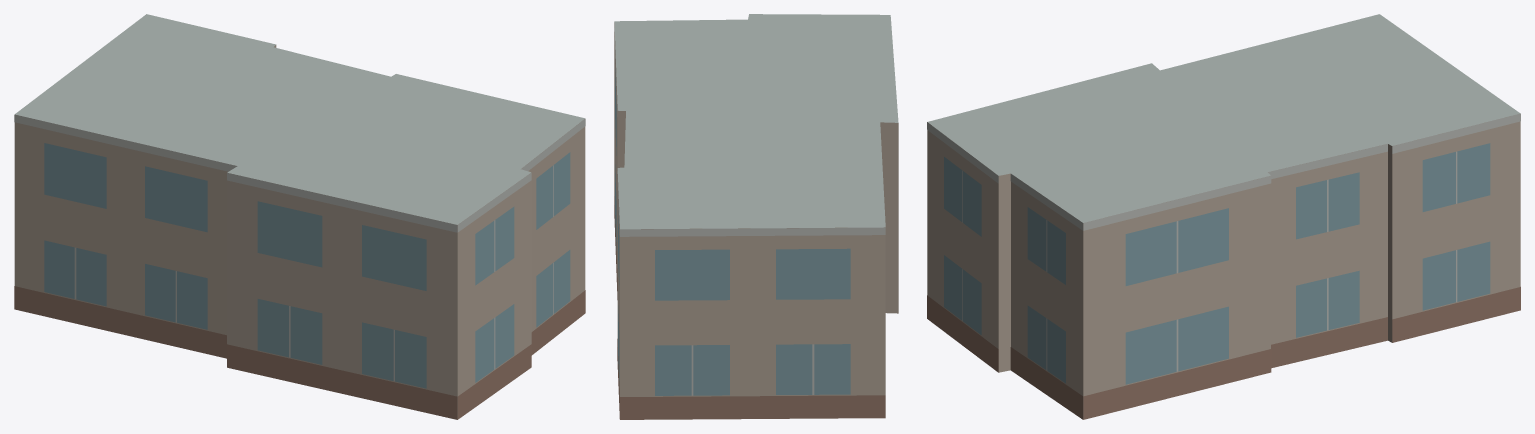
Rendered from survey-upis-32896886.glb.
3 views of the same model, side by side, from view 1: azimuth 30°, elevation 25°; view 2: azimuth 150°, elevation 25°; view 3: azimuth 270°, elevation 25° (orthographic). The views are drawn at different scales.
Parts seen in each view (by area): view 1: survey-upis-32896886.tmp; view 2: survey-upis-32896886.tmp; view 3: survey-upis-32896886.tmp.
Boxes of the visible parts, <box> form: survey-upis-32896886.tmp: <box>14,14,585,419</box>; survey-upis-32896886.tmp: <box>614,14,898,419</box>; survey-upis-32896886.tmp: <box>927,14,1520,419</box>.
Size of the model in its own units: 13.9 by 6.1 by 16.68.
